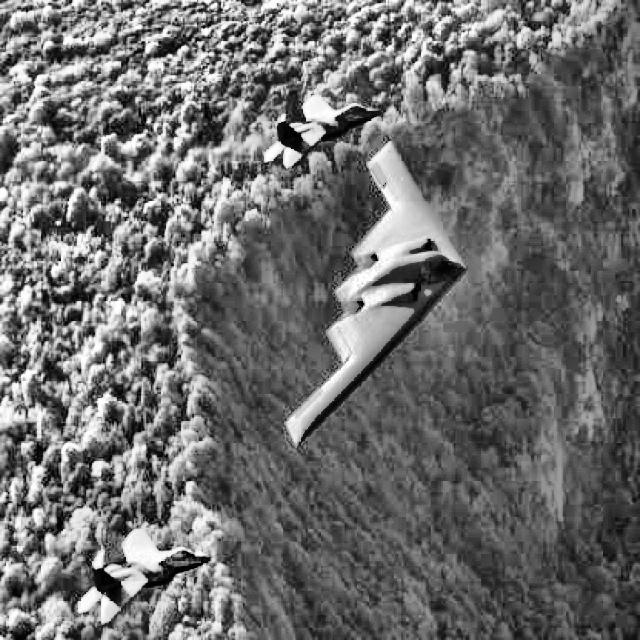B2: (284, 140, 467, 448)
F22: (78, 526, 213, 625), (264, 88, 382, 168)
